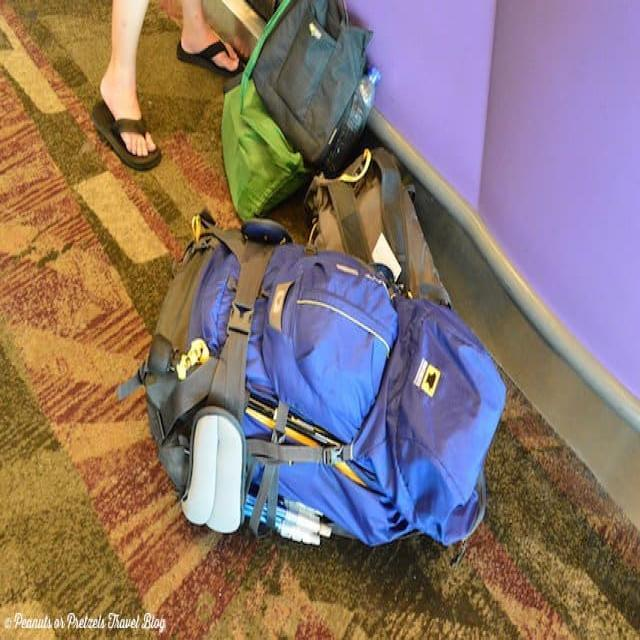Backpacks: (145, 205, 508, 548)
